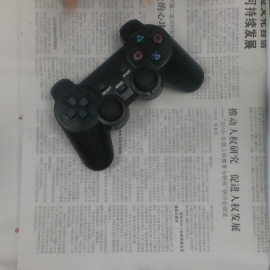remote: (52, 19, 203, 173)
